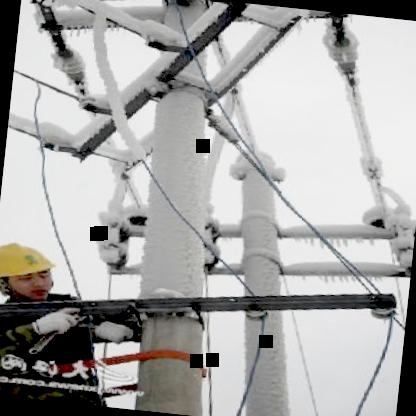helmet: (0, 233, 71, 304)
